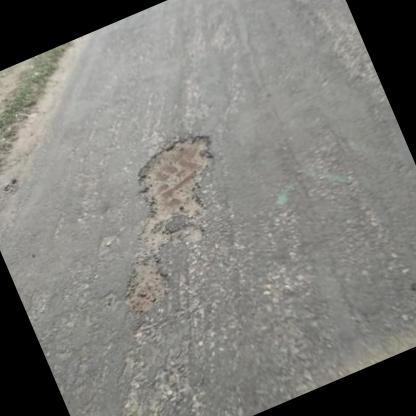pothole: (121, 124, 235, 231), (109, 252, 176, 318)
